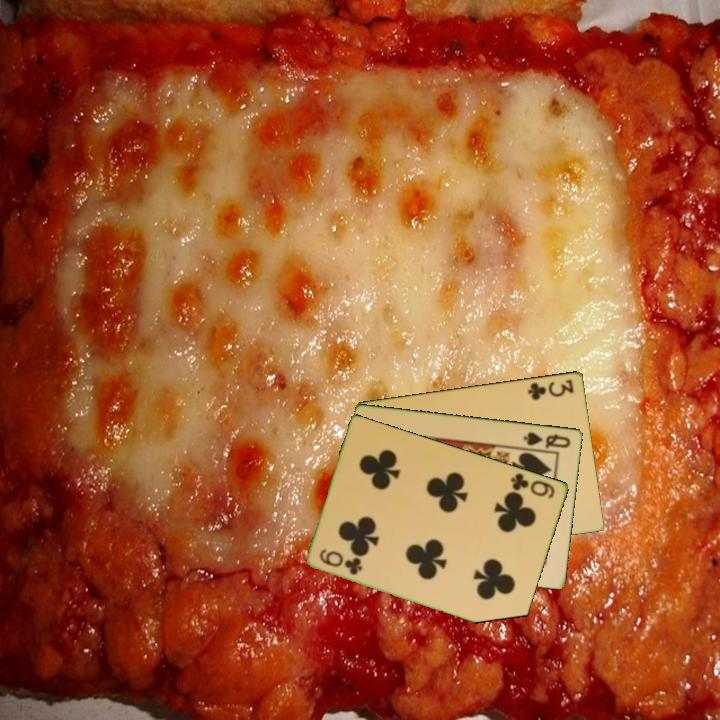3c: (524, 375, 577, 402)
6c: (508, 469, 558, 501), (316, 546, 366, 577)
Qs: (520, 428, 574, 451)
